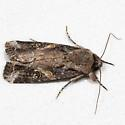army worm adult: (5, 28, 120, 111)
